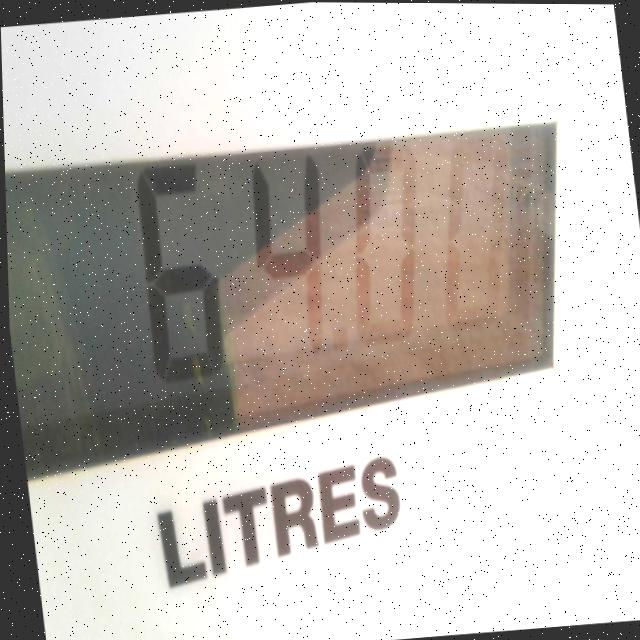.: (325, 316, 361, 366)
0: (417, 121, 529, 343), (329, 142, 437, 364)
6: (113, 153, 246, 396), (234, 143, 350, 373)
